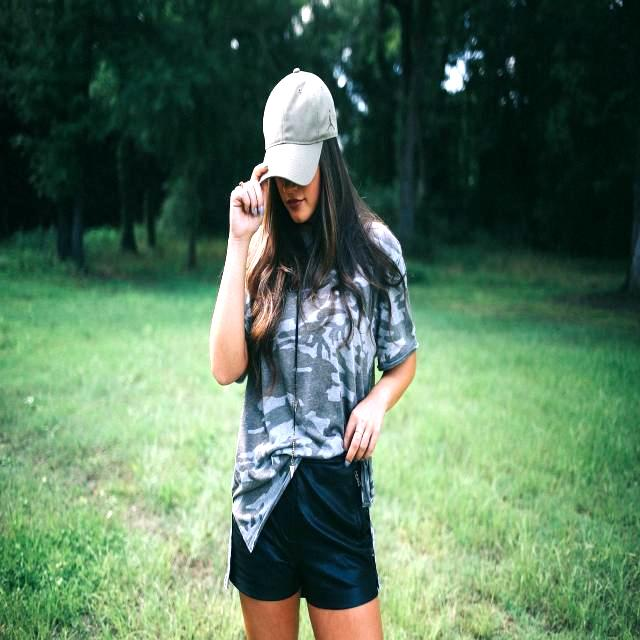no_hard_hat: (260, 68, 337, 186)
person: (211, 69, 417, 638)
